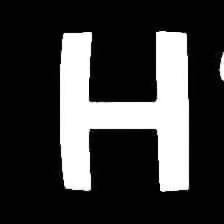LTR_H: (45, 17, 195, 196)
